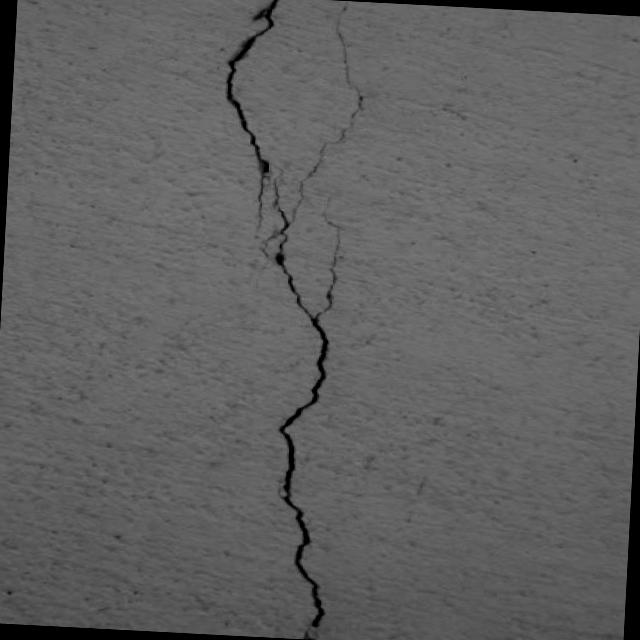crack: (190, 0, 369, 640)
